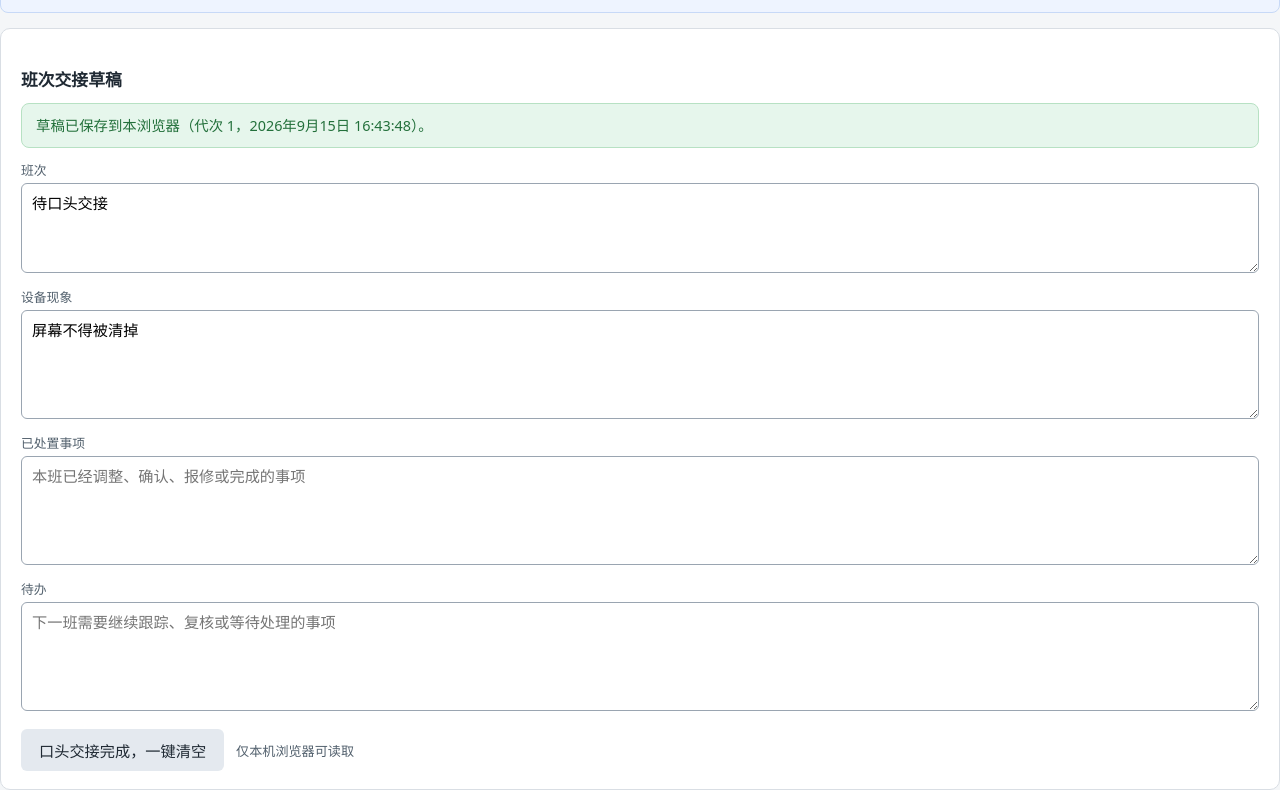
Test: 班次交接草稿面板 › 一键清空确认写入失败时保留屏幕原内容，刷新后旧草稿仍可恢复
(page scrolled)
Click the button with test id "handover-clear" at [123, 750], box [21, 729, 224, 771]
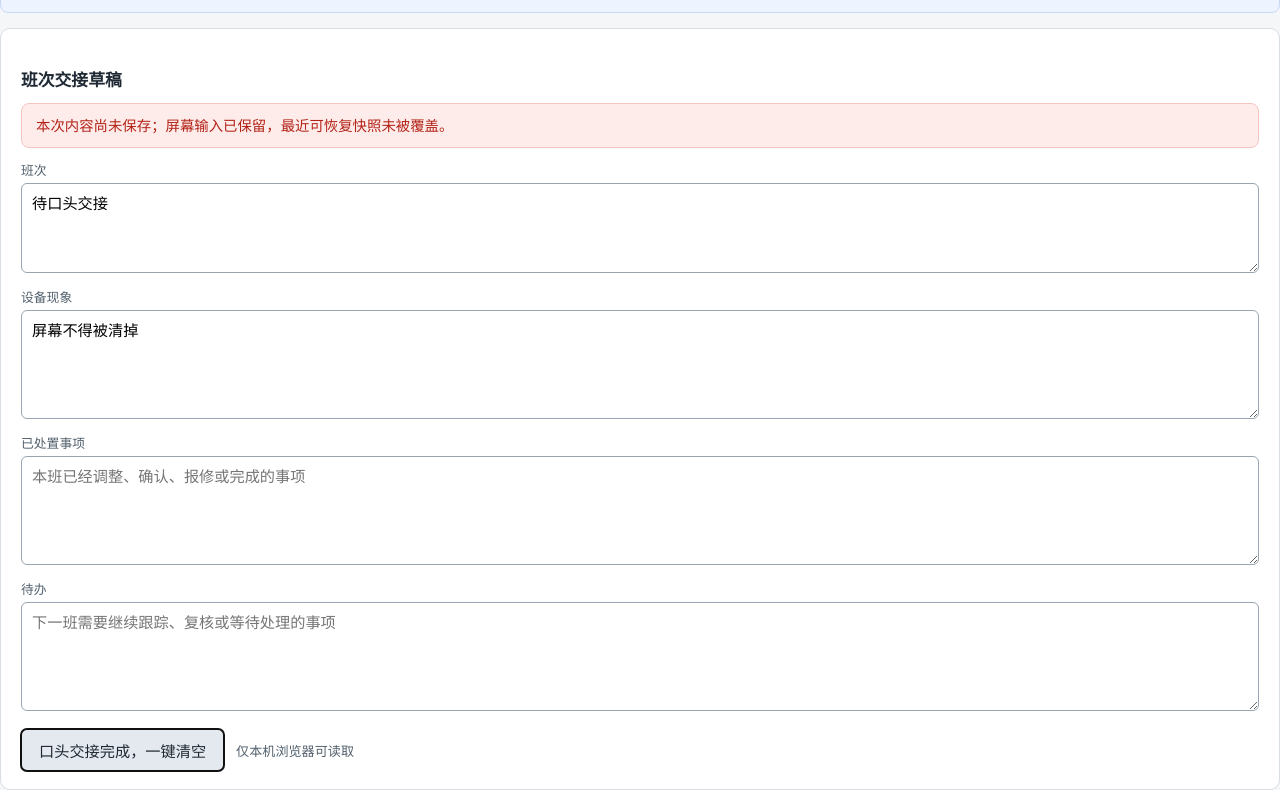
Expected: the text box labelled "班次" holds "待口头交接", [21, 183, 1259, 273]
Expected: the message with test id "handover-status" shows "本次内容尚未保存", [36, 116, 453, 135]
